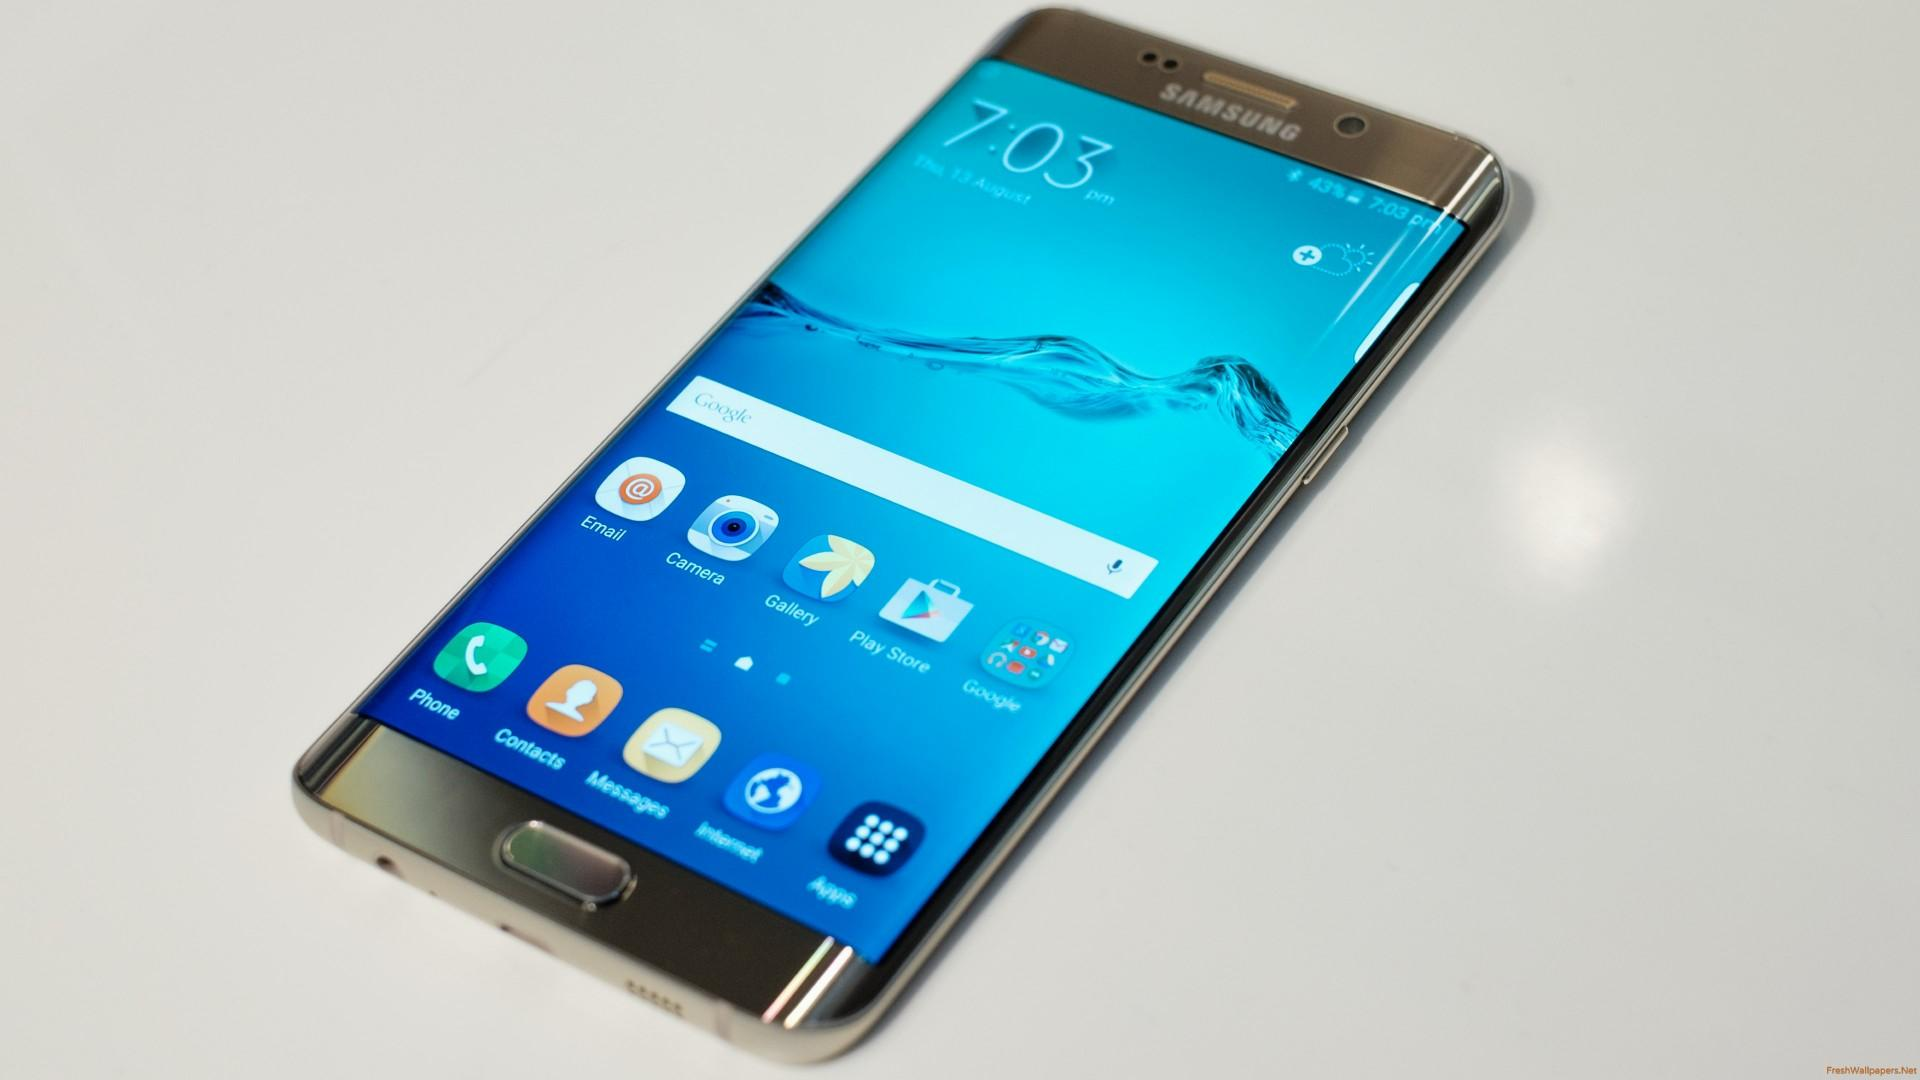smartphone: (291, 5, 1515, 1068)
